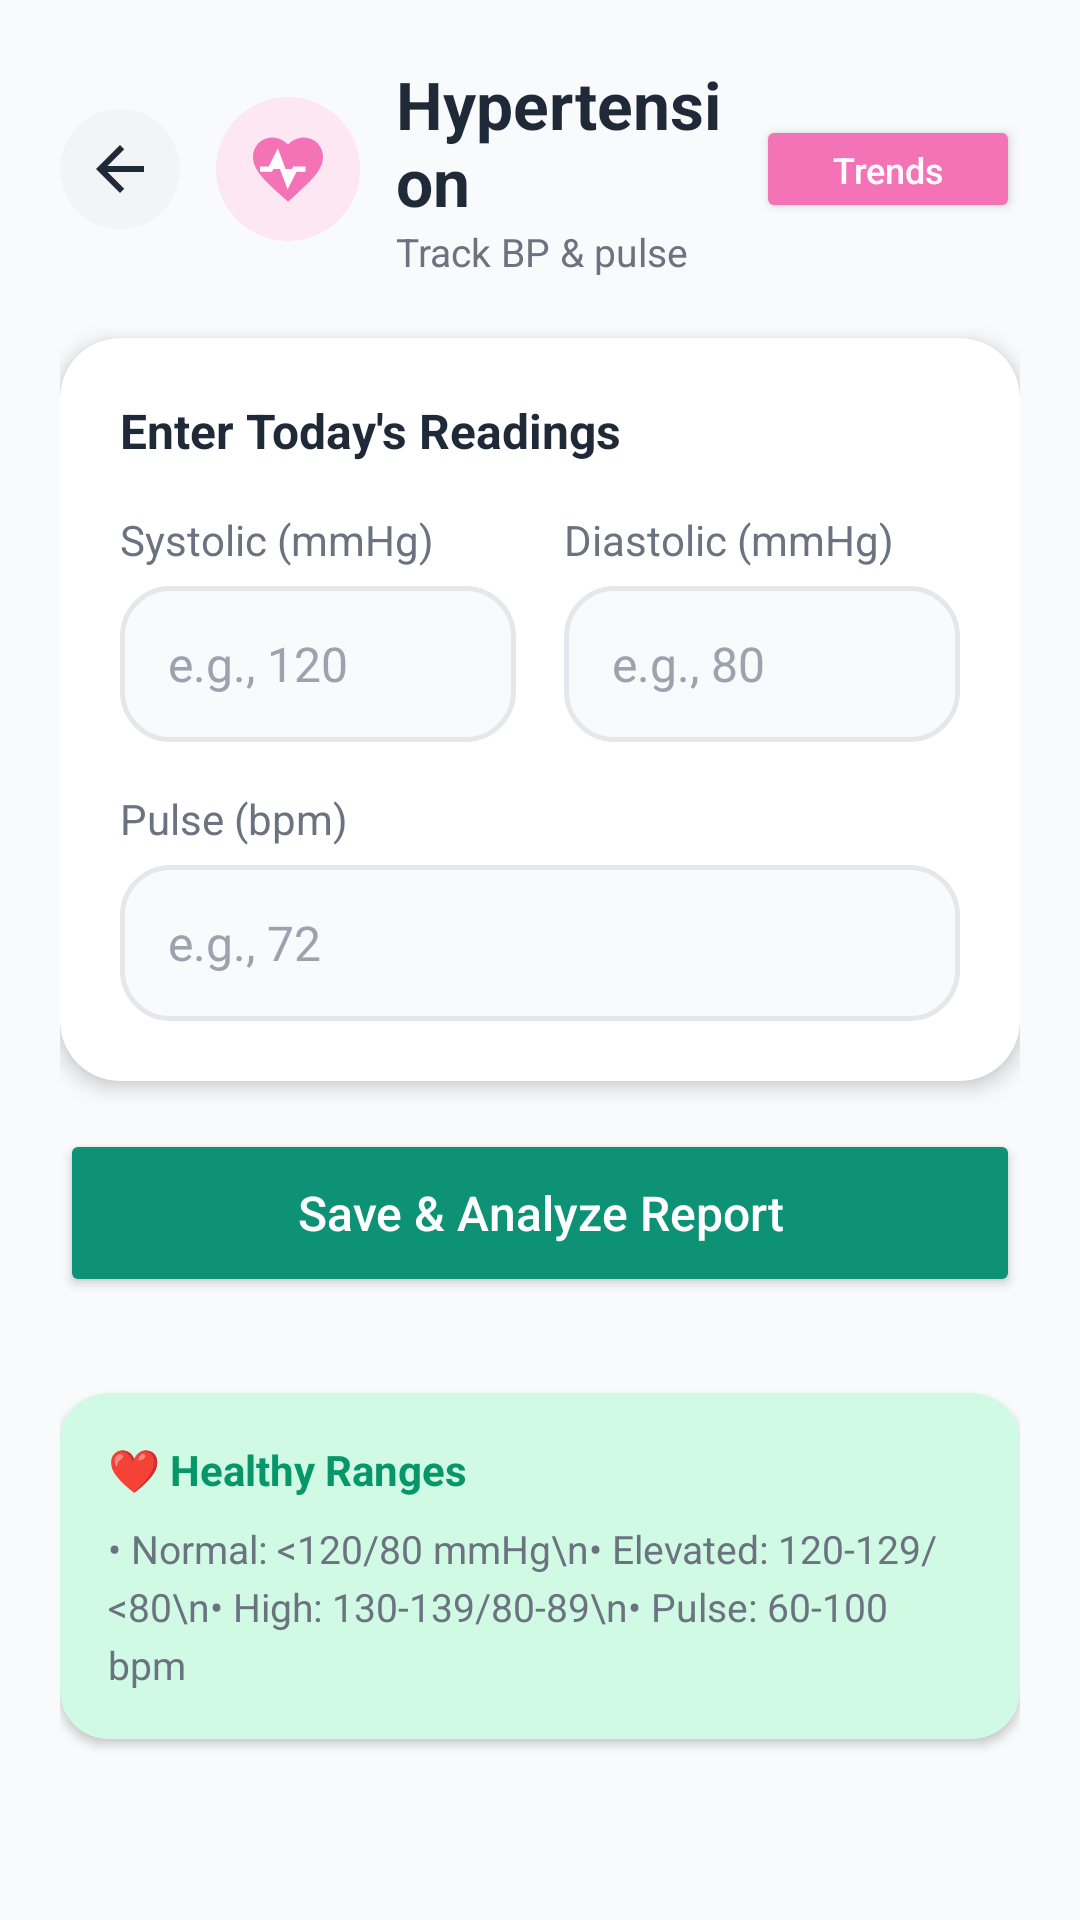

Icon bounding boxes for this 1080w x 1920h phone screenshot, format (x1, y1, x2, y2):
Back: (96, 145, 144, 193)
health heart: (253, 137, 323, 202)
